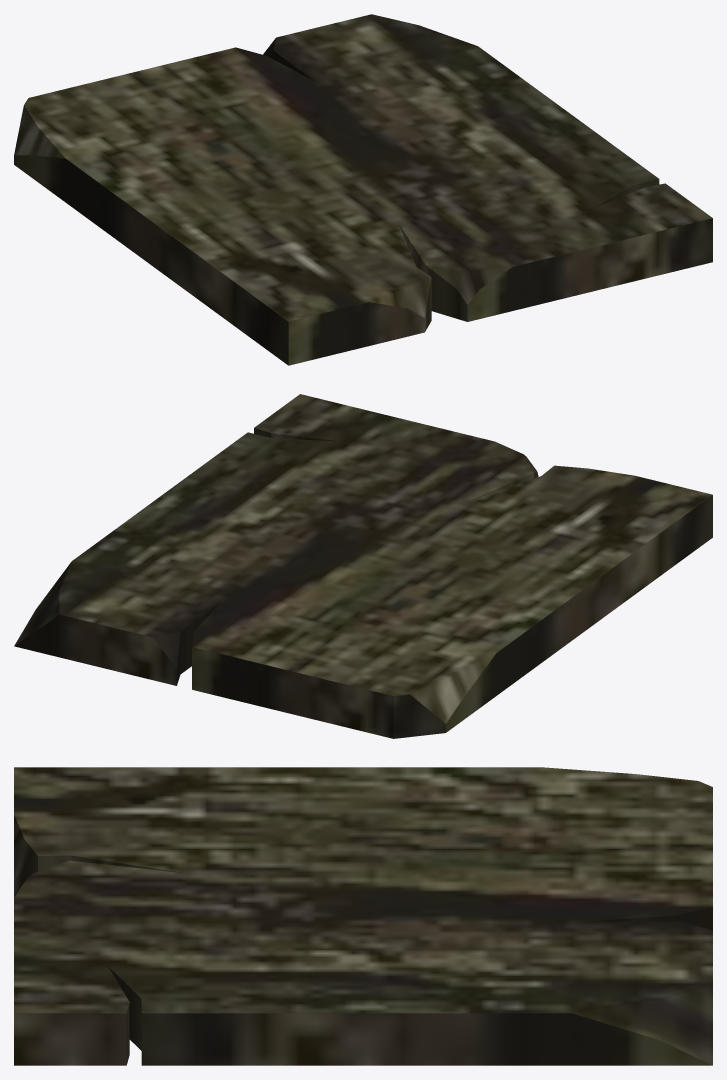
File: KORA.glb
3 renders of one model, top to bottom at view 1: azimuth 30°, elevation 25°; view 2: azimuth 150°, elevation 25°; view 3: azimuth 270°, elevation 25°, orthographic. The views are drawn at different scales.
Parts seen in each view (by area): view 1: KORA; view 2: KORA; view 3: KORA.
Boxes of the visible parts, x1=… form: KORA: x1=14, y1=14, x2=712, y2=365; KORA: x1=14, y1=394, x2=712, y2=738; KORA: x1=14, y1=767, x2=712, y2=1065.
Bounding box in the file's own units: 0.46 × 0.0456 × 0.5524.
Materials: 1 (1 with a texture image).
